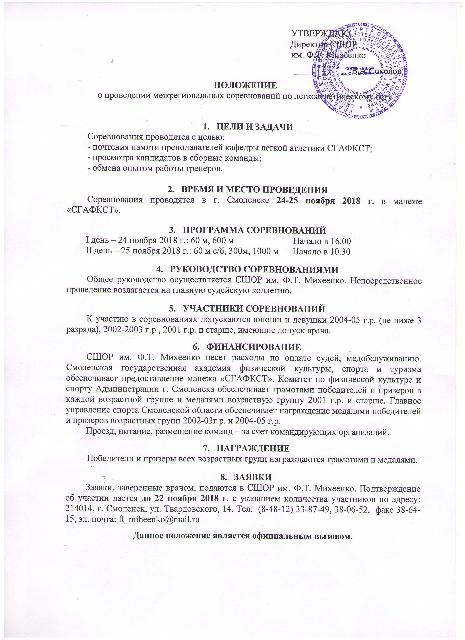stamp: (310, 21, 406, 120)
